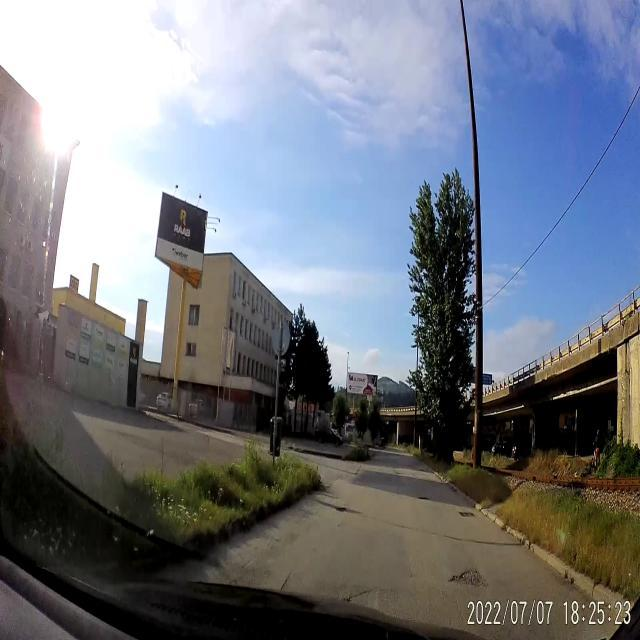Manhole: (456, 508, 477, 526)
Pothole: (451, 558, 487, 596), (415, 490, 433, 508), (333, 502, 348, 514)
